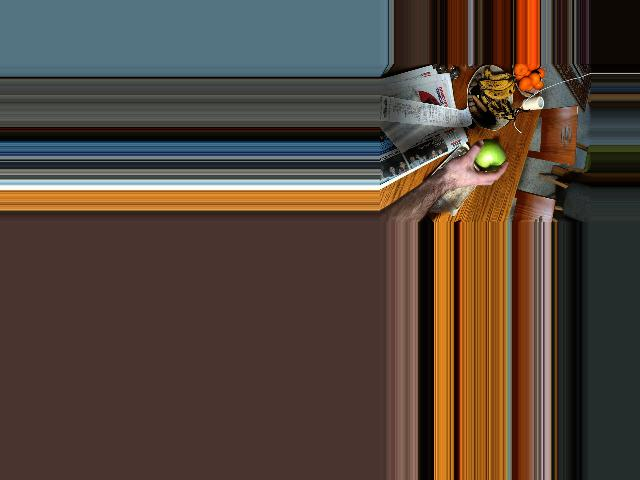apple: (473, 138, 504, 172)
